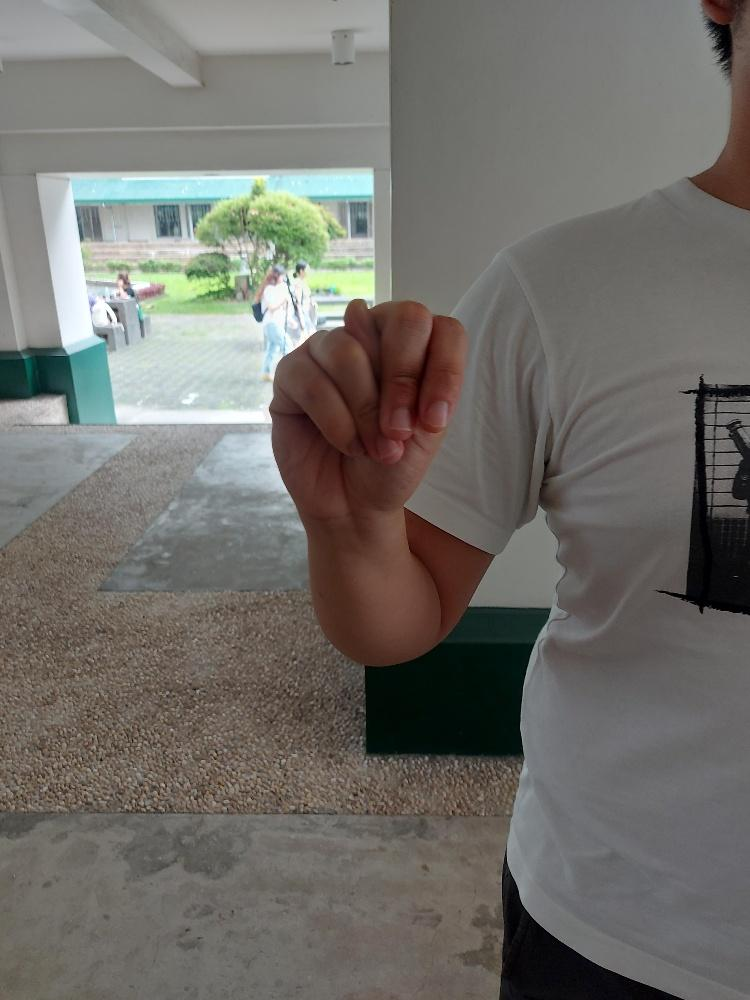n: (267, 293, 468, 522)
